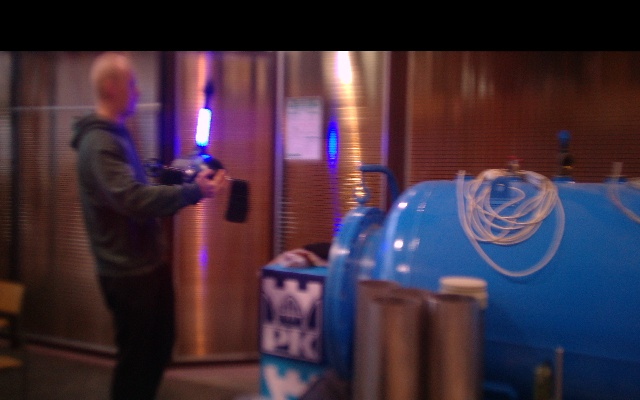blue: (195, 107, 211, 146)
